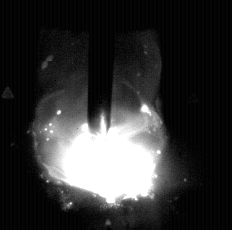arame: (87, 0, 112, 133)
poca: (34, 0, 164, 230)
